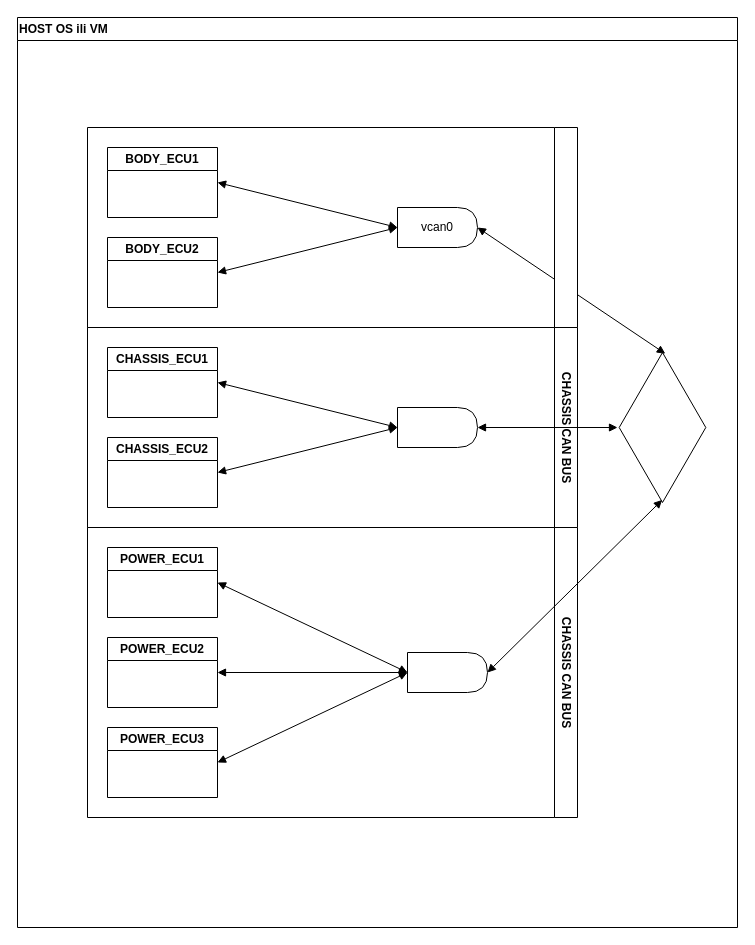
Image size: 755x945. Some labels were removed from this diagram. Each missing label, with the centre of its shape:
"BODY CAN BUS" belongs at [332,227].
"GATEWAY" belongs at [662,427].
"vcan1" belongs at [437,427].
"vcan2" belongs at [447,672].
